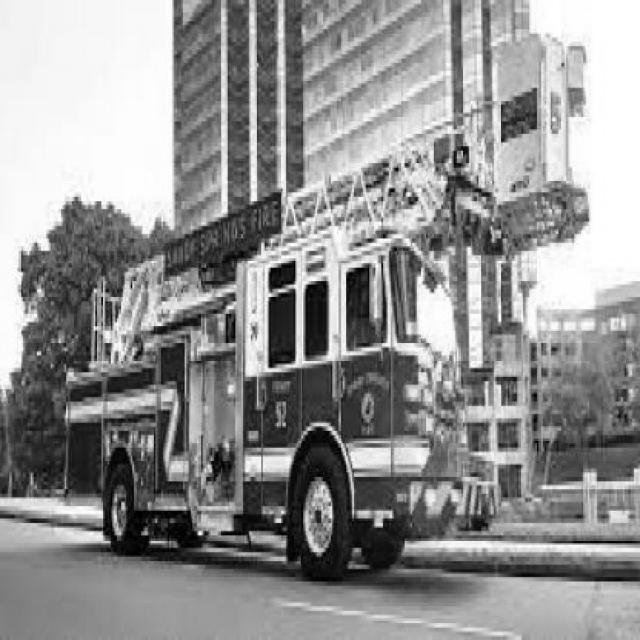Fire Truck: (60, 34, 591, 582)
